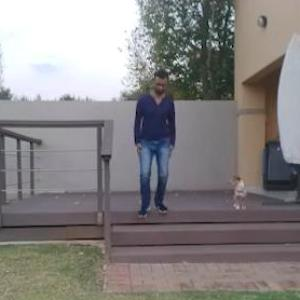follow: (132, 69, 170, 220)
